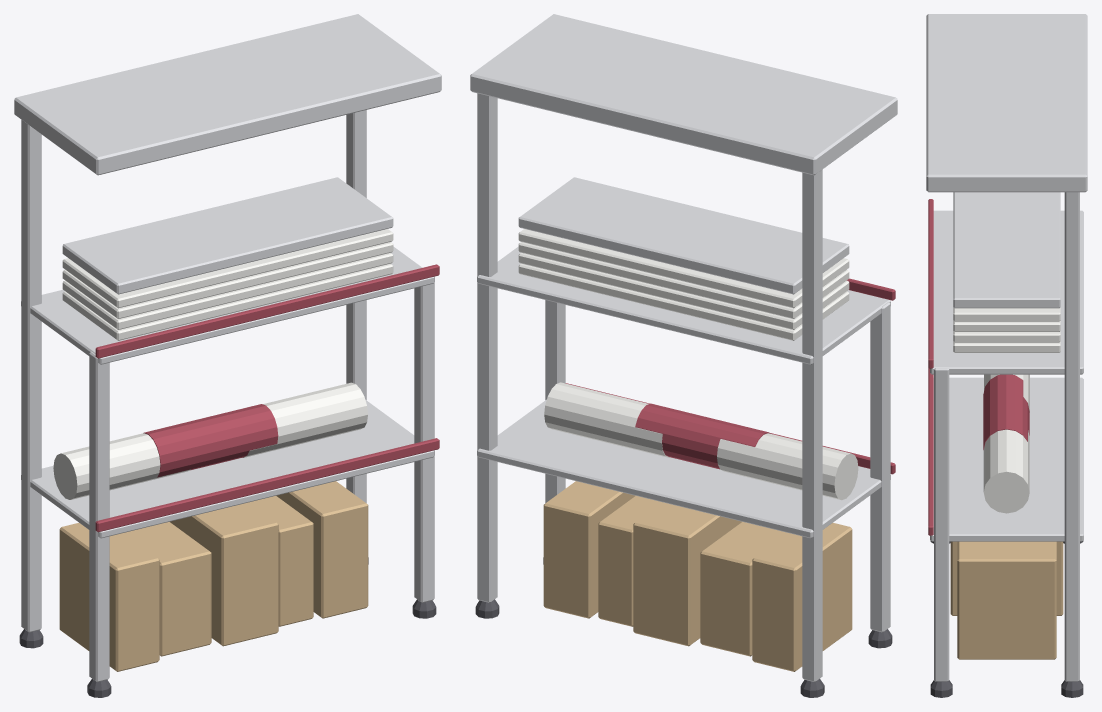
Rendered from butchers-shop-and-deli-counter-packaging-box-shelf-5d793b8f__34460.glb.
The picture shows the model from 3 angles, left to right: view 1: azimuth 30°, elevation 25°; view 2: azimuth 150°, elevation 25°; view 3: azimuth 270°, elevation 25°; orthographic projection. The views are drawn at different scales.
Parts seen in each view (by area): view 1: packaging-box-shelf; view 2: packaging-box-shelf; view 3: packaging-box-shelf.
Boxes of the visible parts, x1,y1,x2,y2 form: packaging-box-shelf: [14, 14, 441, 697]; packaging-box-shelf: [470, 14, 897, 697]; packaging-box-shelf: [926, 14, 1087, 697].
Size of the model in its own units: 1 by 1.5 by 0.4199.
